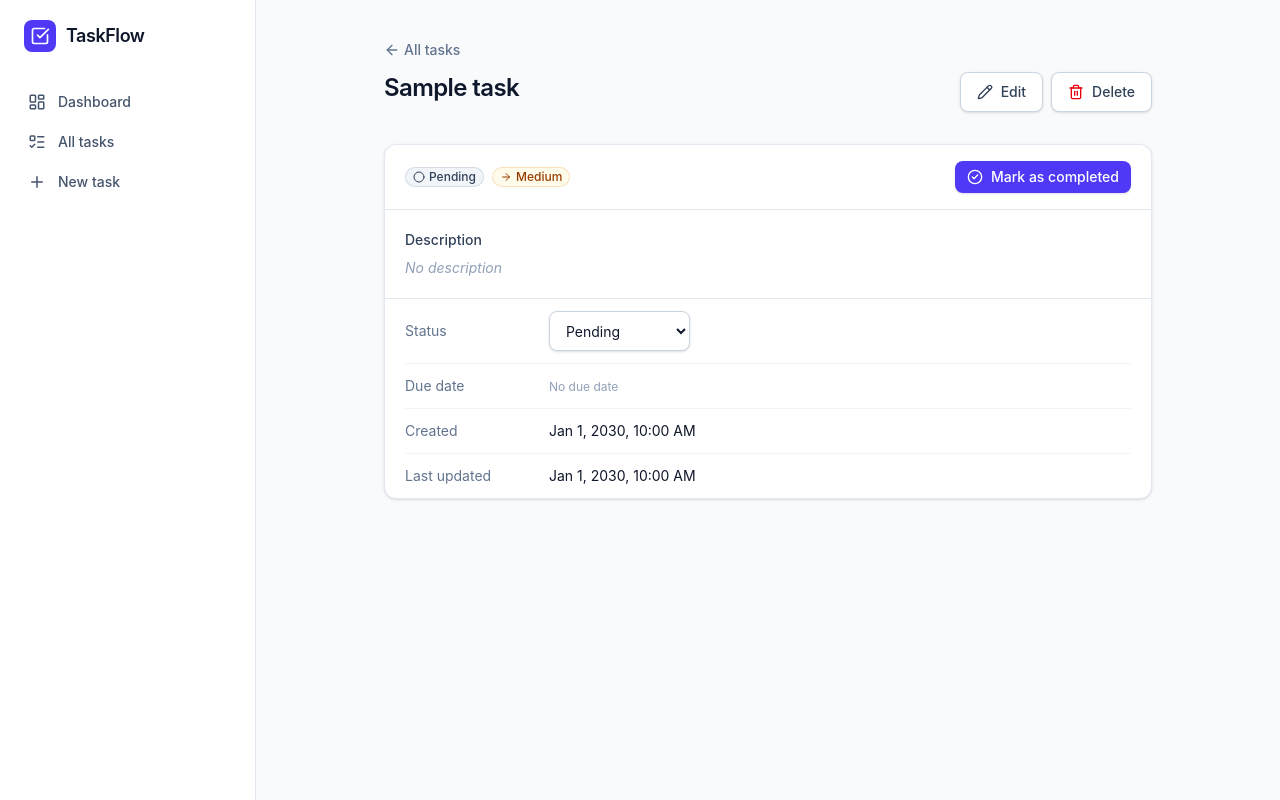
Test: Task details › closes the delete dialog with Escape
Click the button "Delete".
click(1102, 92)  # box [1051,72,1152,112]
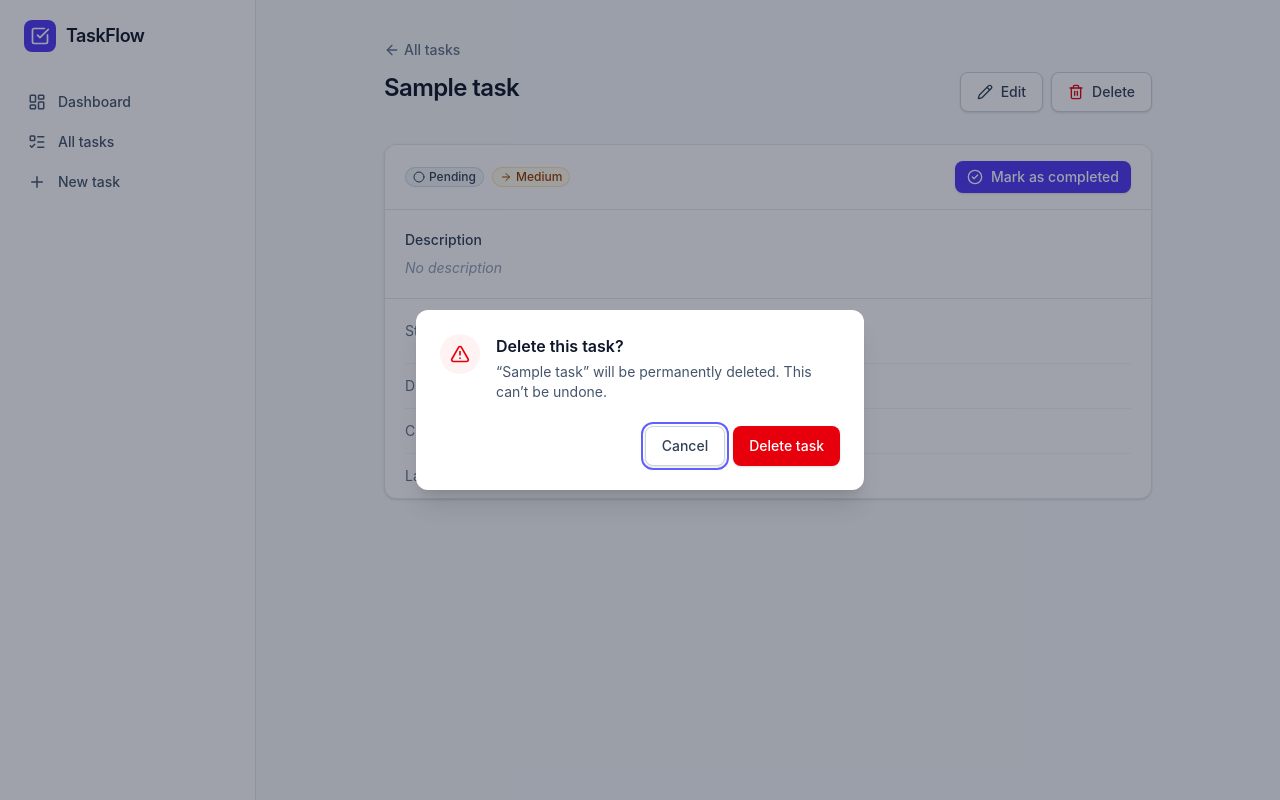
Press Escape
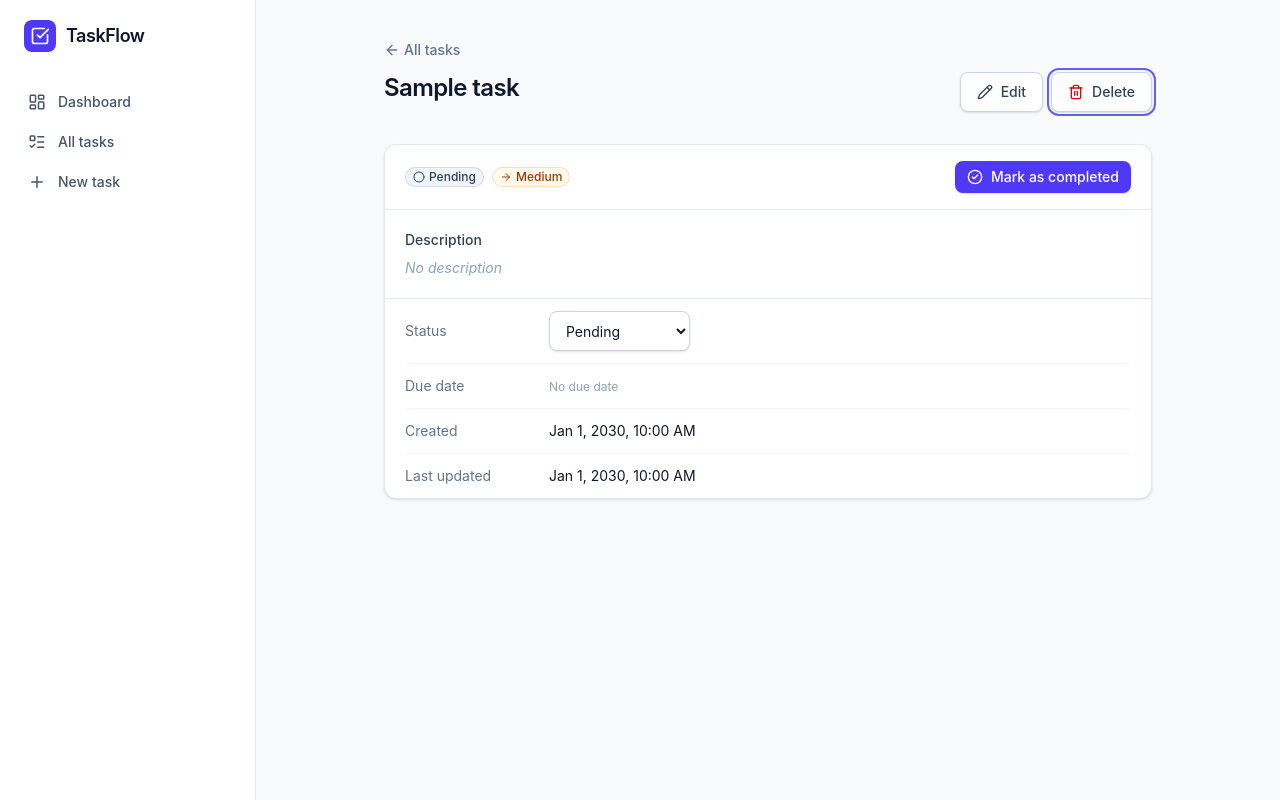
Result: the dialog is gone
